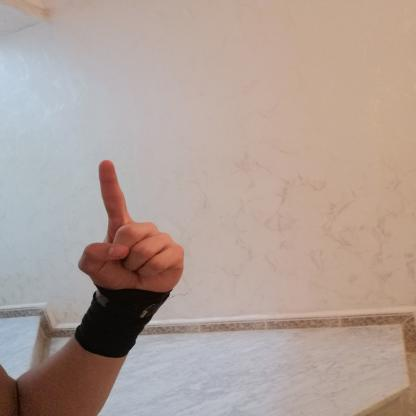BAA: (65, 153, 194, 304)
